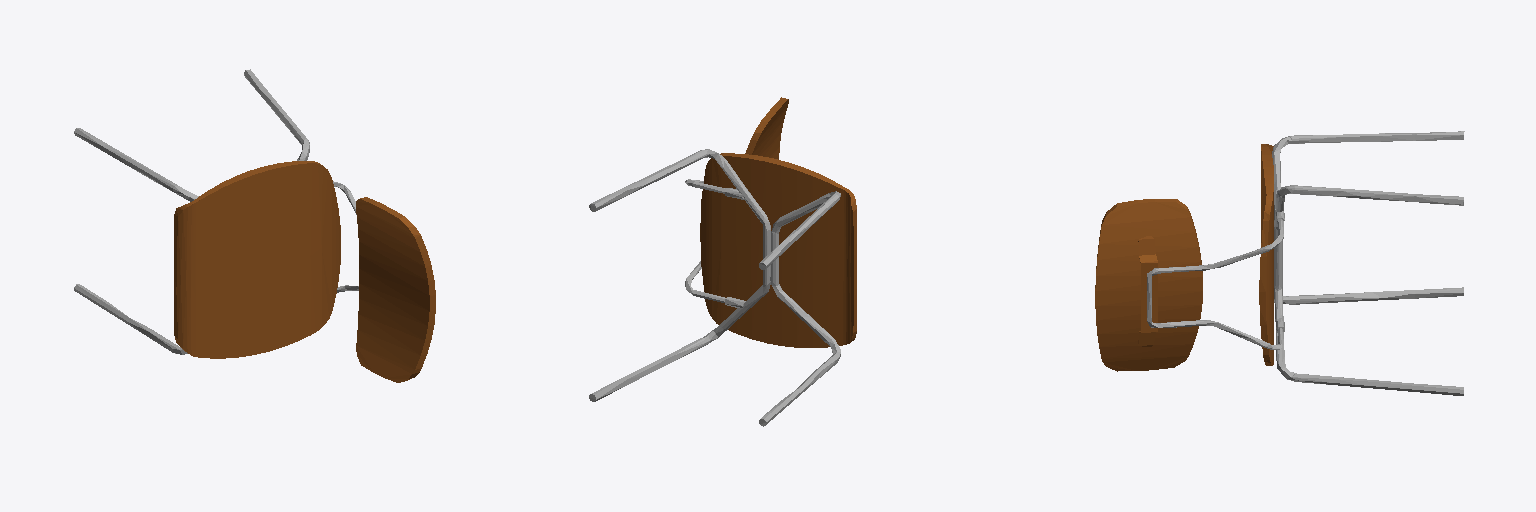
File: chair.obj
The picture shows the model from 3 angles: view 1: azimuth 30°, elevation 25°; view 2: azimuth 150°, elevation 25°; view 3: azimuth 270°, elevation 25°; orthographic projection.
Visible parts, largest first — view 1: Mesh1 chair1 Model, Mesh2 chair1 Model, Mesh3 chair1 Model, Mesh5 chair1 Model; view 2: Mesh1 chair1 Model, Mesh5 chair1 Model, Mesh3 chair1 Model, Mesh2 chair1 Model; view 3: Mesh2 chair1 Model, Mesh5 chair1 Model, Mesh3 chair1 Model, Mesh1 chair1 Model, Mesh4 chair1 Model.
Part boxes in pixels (left/top/right/bottom): Mesh1 chair1 Model: left=174, top=161, right=340, bottom=358; Mesh2 chair1 Model: left=356, top=197, right=435, bottom=382; Mesh3 chair1 Model: left=74, top=128, right=198, bottom=354; Mesh5 chair1 Model: left=244, top=69, right=358, bottom=292; Mesh1 chair1 Model: left=700, top=153, right=856, bottom=347; Mesh5 chair1 Model: left=589, top=149, right=770, bottom=401; Mesh3 chair1 Model: left=759, top=191, right=840, bottom=426; Mesh2 chair1 Model: left=745, top=97, right=788, bottom=159; Mesh2 chair1 Model: left=1095, top=199, right=1202, bottom=371; Mesh5 chair1 Model: left=1147, top=185, right=1463, bottom=395; Mesh3 chair1 Model: left=1272, top=131, right=1464, bottom=304; Mesh1 chair1 Model: left=1259, top=144, right=1273, bottom=365; Mesh4 chair1 Model: left=1138, top=236, right=1157, bottom=346.
Bounding box in the file's own units: 0.4583 × 0.4799 × 0.8111.